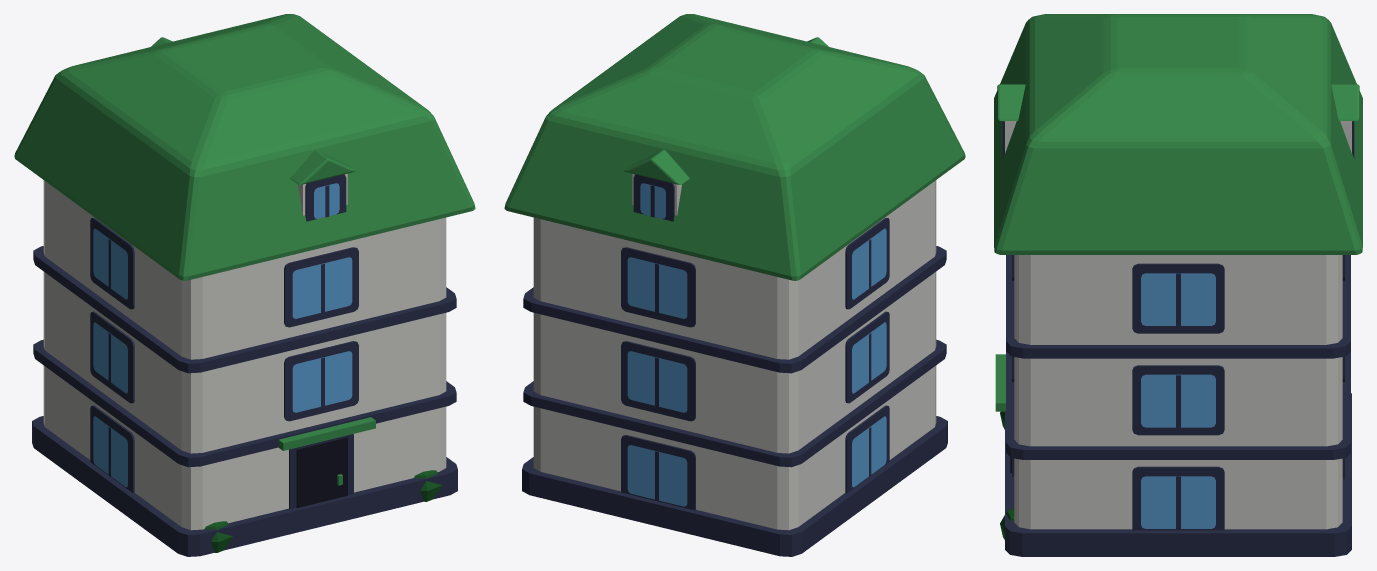
File: house-1x1-3f-mansard-a.glb
3 renders of one model, left to right at view 1: azimuth 30°, elevation 25°; view 2: azimuth 150°, elevation 25°; view 3: azimuth 270°, elevation 25°, orthographic. The views are drawn at different scales.
Visible parts, largest first — view 1: house-1x1-3f-mansard-a; view 2: house-1x1-3f-mansard-a; view 3: house-1x1-3f-mansard-a.
Boxes of the visible parts, x1,y1,x2,y2 form: house-1x1-3f-mansard-a: (14, 14, 475, 556); house-1x1-3f-mansard-a: (504, 14, 965, 556); house-1x1-3f-mansard-a: (994, 14, 1362, 556).
Bounding box in the file's own units: 0.9876 × 1.3 × 0.9876.
Materials: 1 (1 with a texture image).
